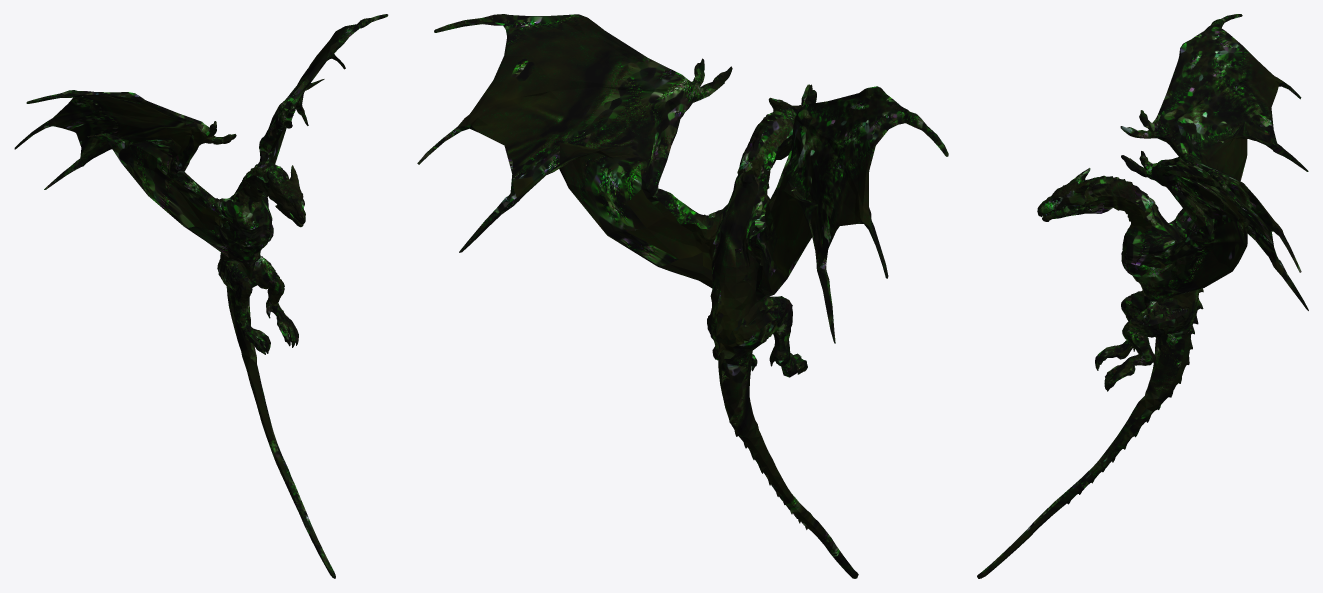
File: frame_0015_uv.obj
The picture shows the model from 3 angles, left to right: view 1: azimuth 30°, elevation 25°; view 2: azimuth 150°, elevation 25°; view 3: azimuth 270°, elevation 25°; orthographic projection. The views are drawn at different scales.
Visible parts, largest first — view 1: pMesh1; view 2: pMesh1; view 3: pMesh1.
Boxes of the visible parts, left/top/right/bottom form: pMesh1: left=14, top=14, right=388, bottom=578; pMesh1: left=417, top=14, right=948, bottom=578; pMesh1: left=977, top=14, right=1308, bottom=578.
Size of the model in its own units: 10.01 by 11.75 by 7.37.
